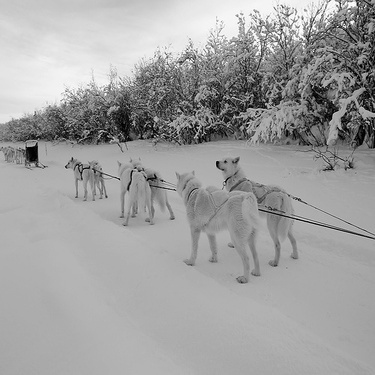dog: (174, 169, 265, 284), (214, 154, 299, 267), (129, 156, 180, 227), (112, 161, 157, 229), (63, 160, 100, 201), (84, 160, 111, 201), (1, 144, 18, 166)
